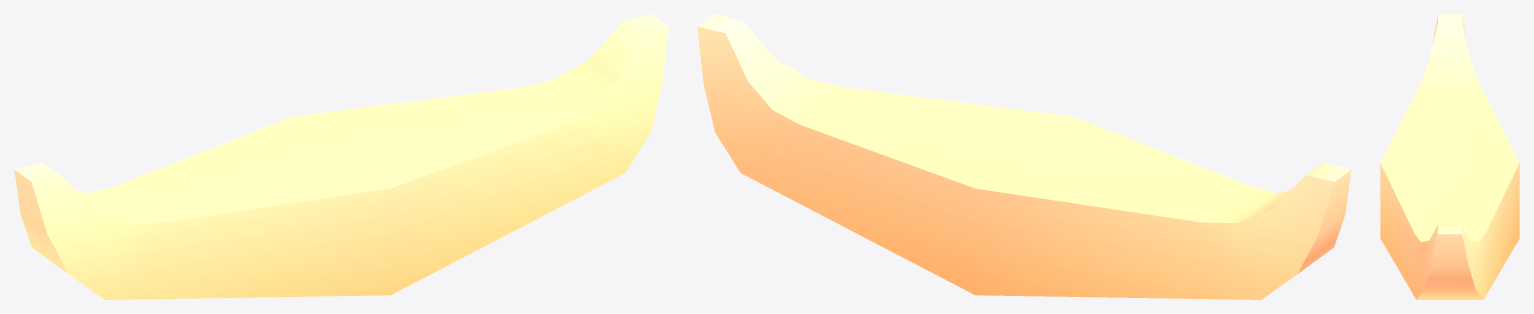
Rendered from wood_guard_075_004.glb.
The picture shows the model from 3 angles, left to right: view 1: azimuth 30°, elevation 25°; view 2: azimuth 150°, elevation 25°; view 3: azimuth 270°, elevation 25°; orthographic projection. The views are drawn at different scales.
Parts seen in each view (by area): view 1: wood_guard_075.004; view 2: wood_guard_075.004; view 3: wood_guard_075.004.
Part boxes in pixels (left/top/right/bottom): wood_guard_075.004: left=14, top=14, right=668, bottom=299; wood_guard_075.004: left=697, top=14, right=1351, bottom=299; wood_guard_075.004: left=1380, top=14, right=1519, bottom=299.
Bounding box in the file's own units: 7.36 × 1.78 × 1.97.
Materials: 1 (1 with a texture image).
